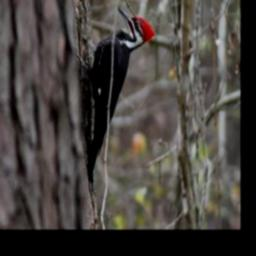Woodpecker: (76, 6, 158, 191)
